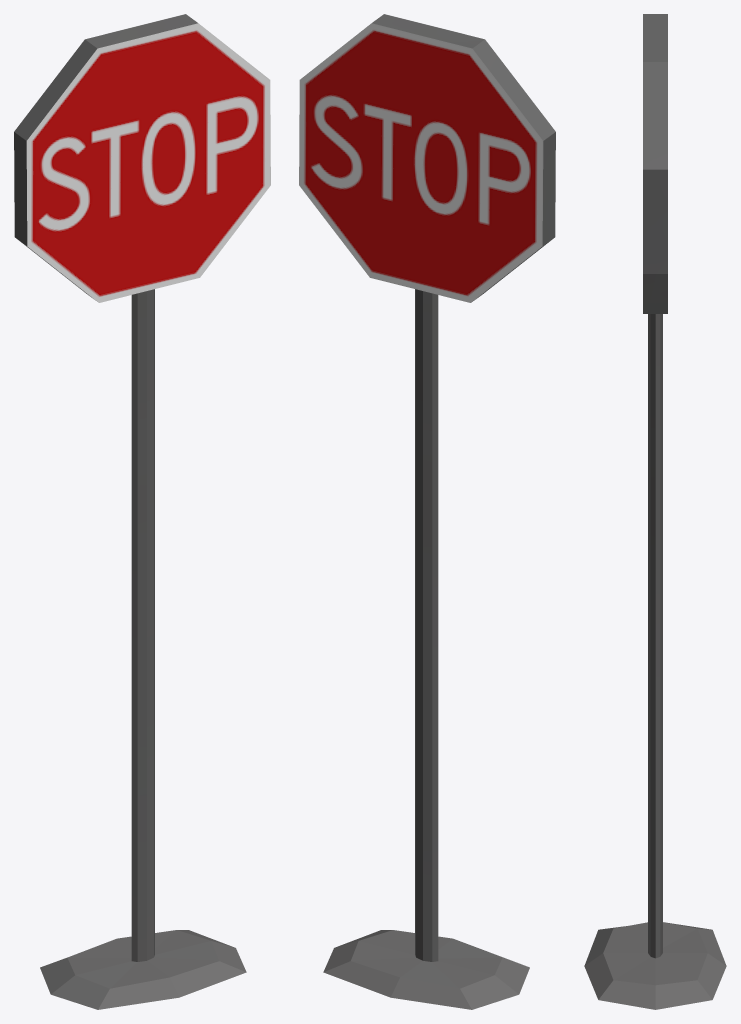
File: Sign_Stop.fbx
The picture shows the model from 3 angles, left to right: view 1: azimuth 30°, elevation 25°; view 2: azimuth 150°, elevation 25°; view 3: azimuth 270°, elevation 25°; orthographic projection.
Parts seen in each view (by area): view 1: Stop_Sign; view 2: Stop_Sign; view 3: Stop_Sign.
Part boxes in pixels (x1,y1,x2,y2): Stop_Sign: [14, 14, 270, 1009]; Stop_Sign: [299, 14, 555, 1009]; Stop_Sign: [584, 14, 726, 1009].
Size of the model in its own units: 64.1 by 236 by 32.79.
